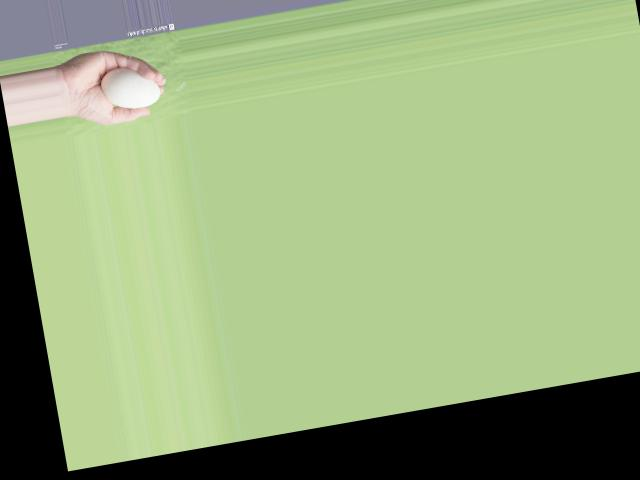egg: (97, 61, 161, 113)
